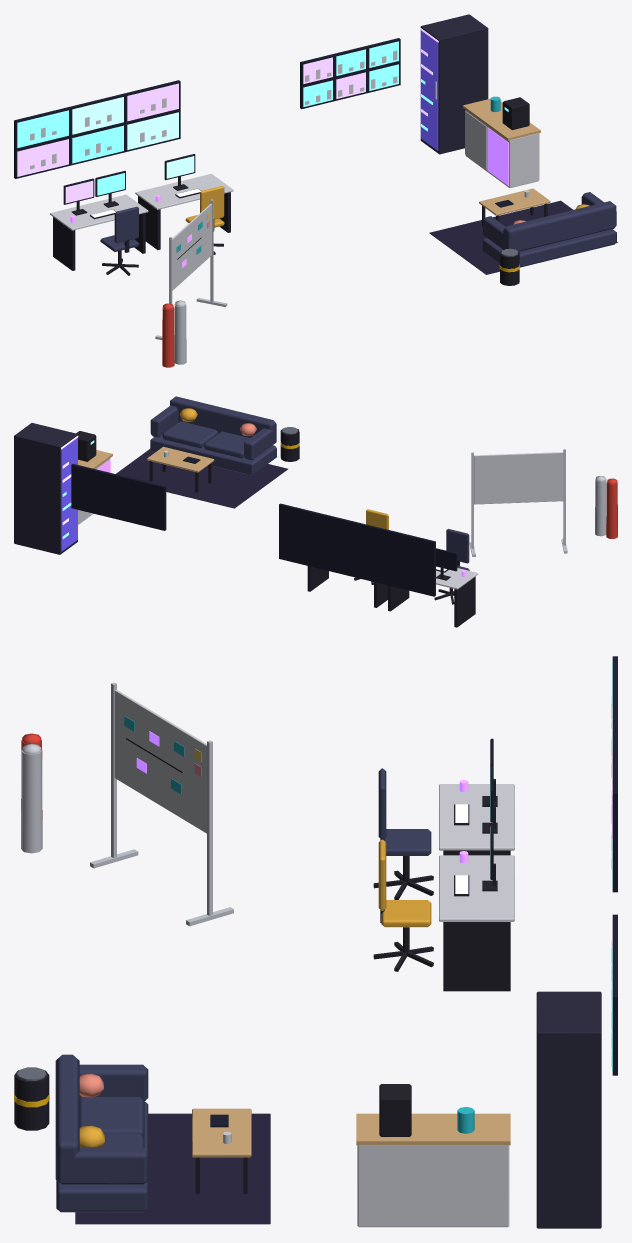
The model's file is einrichtung_kontrollraum.glb.
3 renders of one model, top to bottom at view 1: azimuth 30°, elevation 25°; view 2: azimuth 150°, elevation 25°; view 3: azimuth 270°, elevation 25°, orthographic. The views are drawn at different scales.
Visible parts, largest first — view 1: einrichtung_kontrollraum; view 2: einrichtung_kontrollraum; view 3: einrichtung_kontrollraum.
Boxes of the visible parts, box(x1,y1,x2,y2) form: einrichtung_kontrollraum: box(14, 14, 617, 367); einrichtung_kontrollraum: box(14, 396, 617, 627); einrichtung_kontrollraum: box(14, 656, 617, 1228).
Bounding box in the file's own units: 8.61 × 2 × 5.56.
